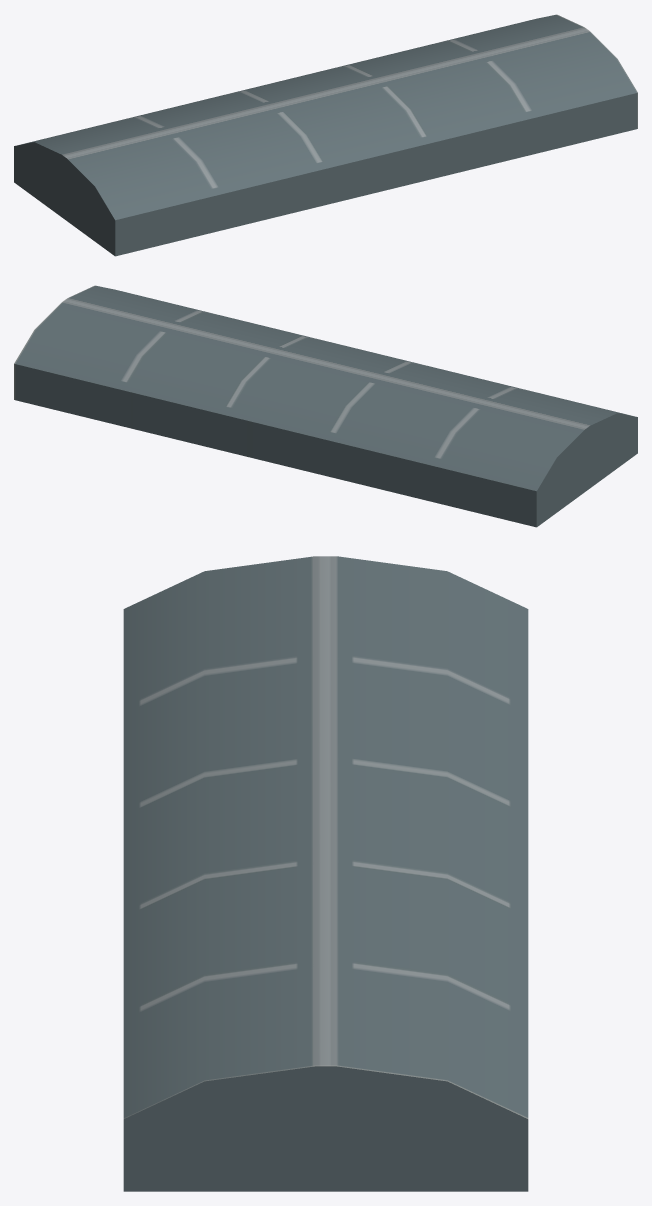
File: fbx_school_outdoor_roof1.fbx
The picture shows the model from 3 angles, top to bottom: view 1: azimuth 30°, elevation 25°; view 2: azimuth 150°, elevation 25°; view 3: azimuth 270°, elevation 25°; orthographic projection. The views are drawn at different scales.
Parts seen in each view (by area): view 1: fbx_school_outdoor_roof1; view 2: fbx_school_outdoor_roof1; view 3: fbx_school_outdoor_roof1.
Boxes of the visible parts, box(x1,y1,x2,y2) form: fbx_school_outdoor_roof1: box(14, 14, 637, 256); fbx_school_outdoor_roof1: box(14, 285, 637, 527); fbx_school_outdoor_roof1: box(123, 556, 528, 1191).
Bounding box in the file's own units: 5.6 × 0.6415 × 1.88.
1 material, 1 textured.
